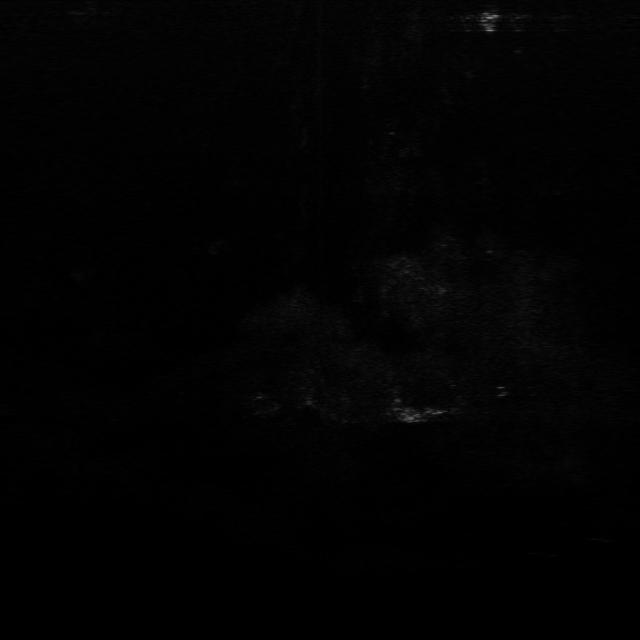rov: (476, 9, 504, 36)
